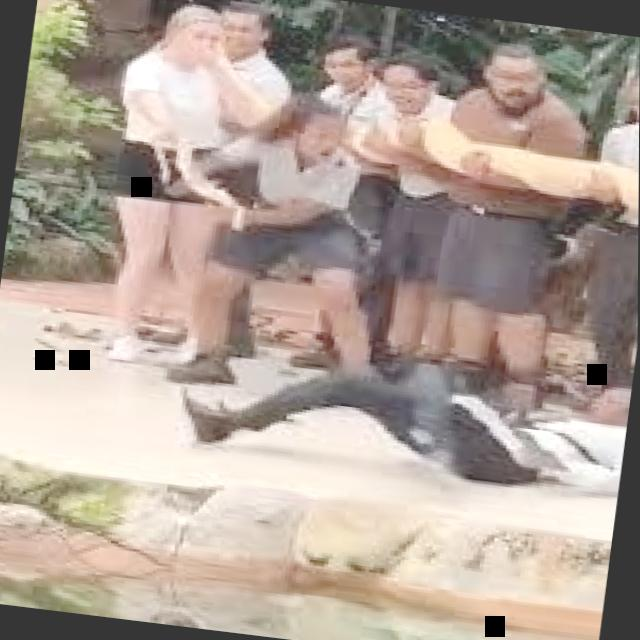Fall-Detected: (177, 321, 634, 503)
